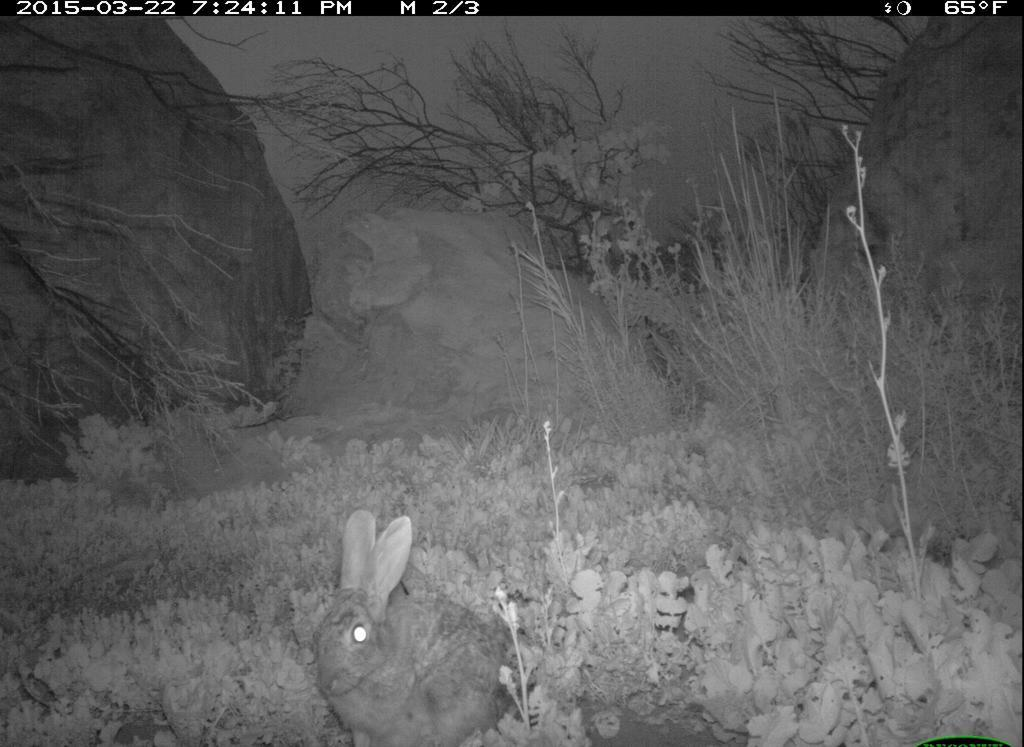rabbit: (306, 507, 536, 712)
